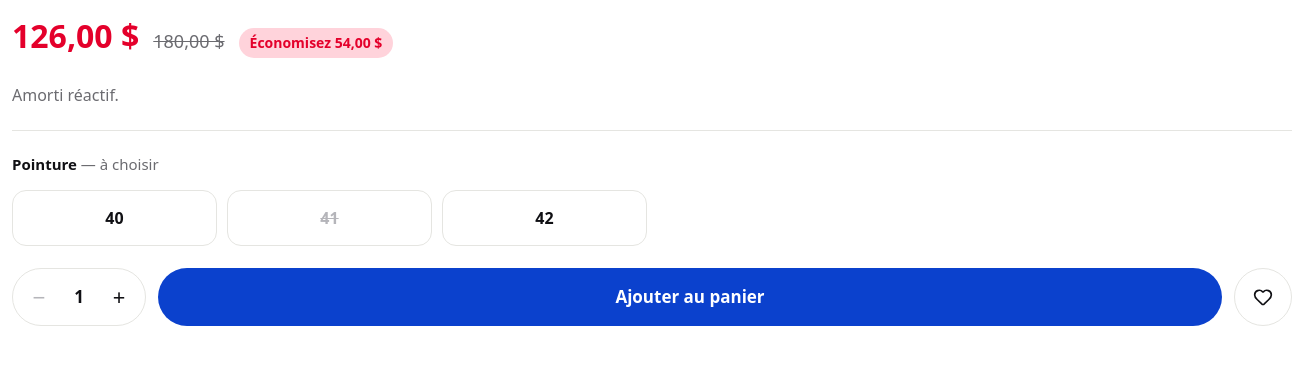
Test case: BlocAchat — ajout au panier › refuse sans pointure, avec un message
What coordinates should you click on to do the following:
click the button "Ajouter au panier"
I would click on:
 (690, 296)
Its box is top-left (158, 268), bottom-right (1222, 326).
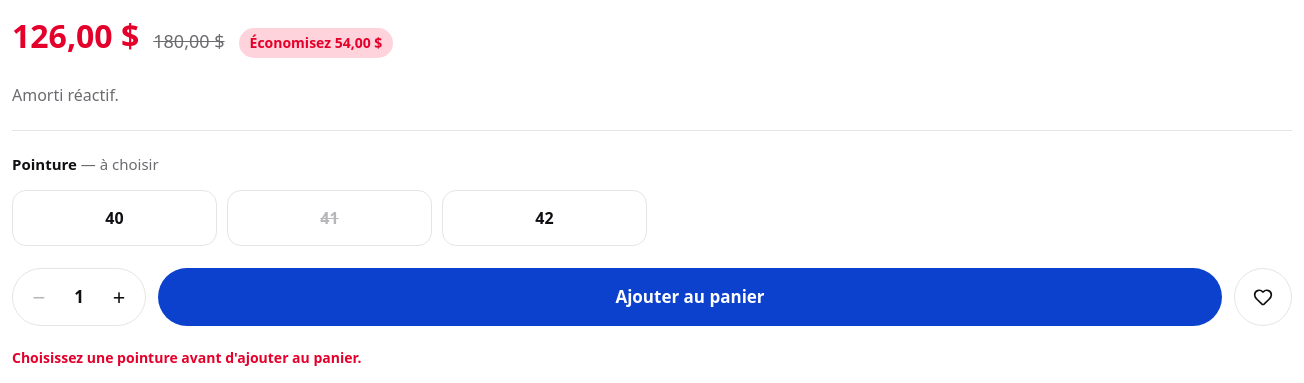
Expected: the message reads "Choisissez une pointure avant d'ajouter au panier.", top-left (12, 348), bottom-right (361, 366)
